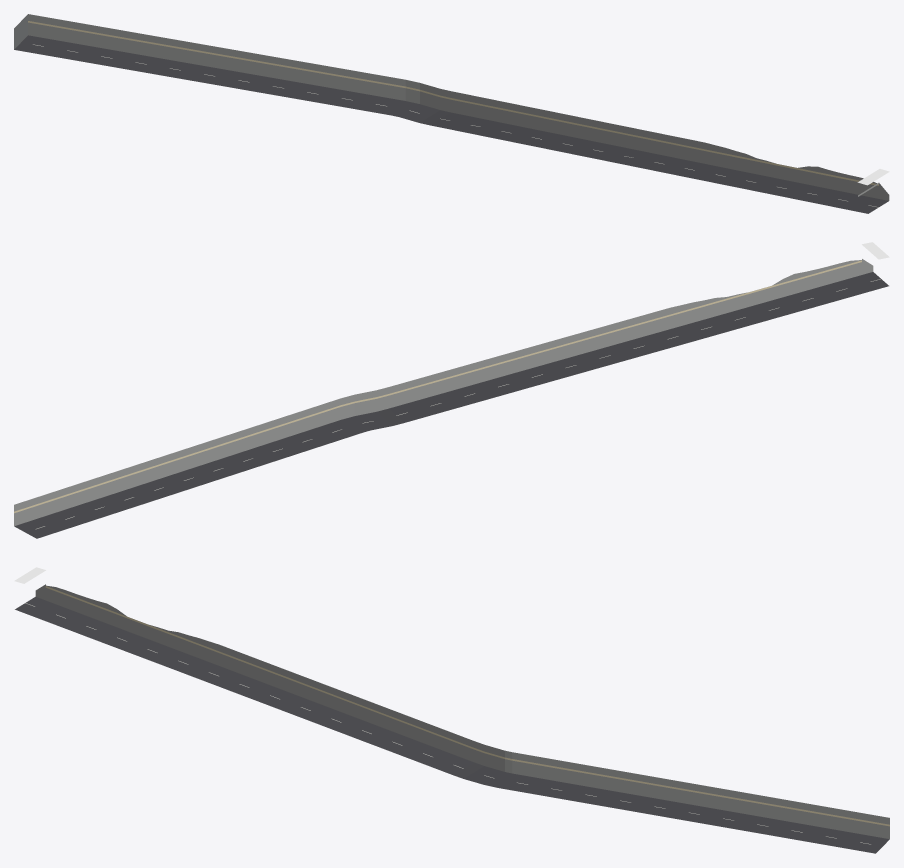
The model's file is velotunnel.glb.
3 renders of one model, top to bottom at view 1: azimuth 90°, elevation 25°; view 2: azimuth 150°, elevation 25°; view 3: azimuth 270°, elevation 25°, orthographic.
Visible parts, largest first — view 1: velotunnel; view 2: velotunnel; view 3: velotunnel.
Boxes of the visible parts, x1,y1,x2,y2 form: velotunnel: (14, 14, 889, 213); velotunnel: (14, 242, 889, 538); velotunnel: (14, 567, 889, 853).
Size of the model in its own units: 83.5 by 12.16 by 142.
3 materials, 3 textured.
